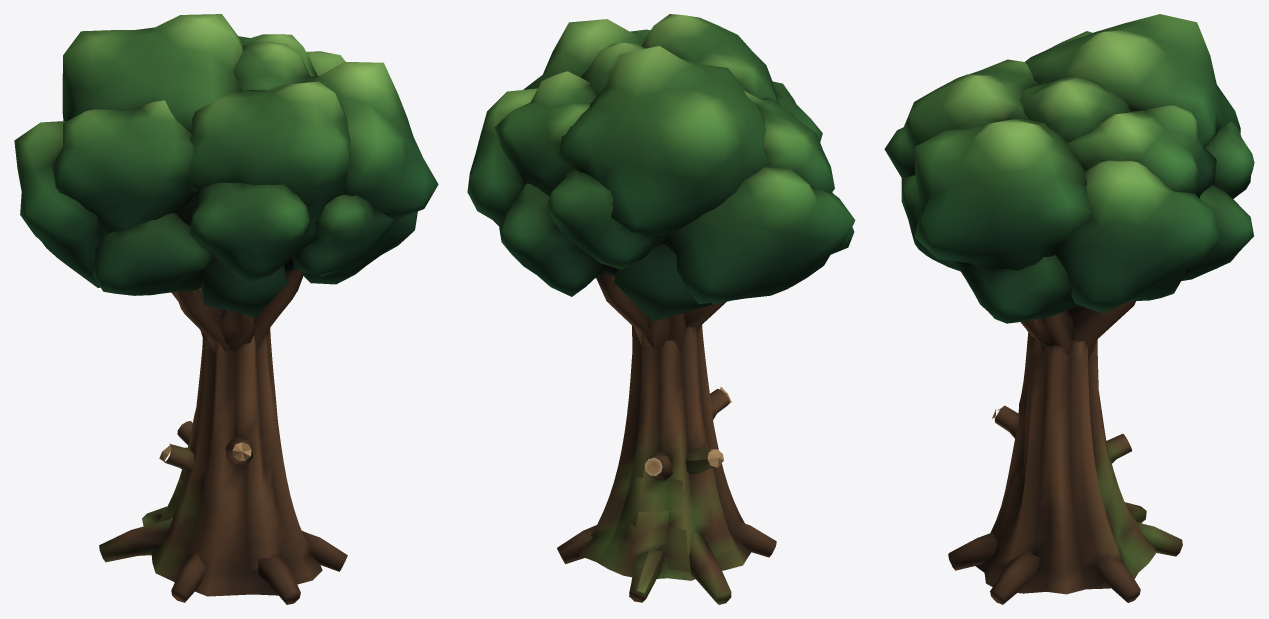
The model's file is tree-big-v2.glb.
3 renders of one model, left to right at view 1: azimuth 30°, elevation 25°; view 2: azimuth 150°, elevation 25°; view 3: azimuth 270°, elevation 25°, orthographic.
Parts seen in each view (by area): view 1: 1_leaves, 0_trunk; view 2: 1_leaves, 0_trunk; view 3: 1_leaves, 0_trunk.
Part boxes in pixels (left/top/right/bottom): 1_leaves: left=14, top=14, right=438, bottom=317; 0_trunk: left=99, top=269, right=347, bottom=604; 1_leaves: left=467, top=14, right=855, bottom=321; 0_trunk: left=557, top=273, right=776, bottom=604; 1_leaves: left=884, top=14, right=1254, bottom=323; 0_trunk: left=948, top=301, right=1182, bottom=604.
Bounding box in the file's own units: 6.63 × 9.27 × 5.86.
